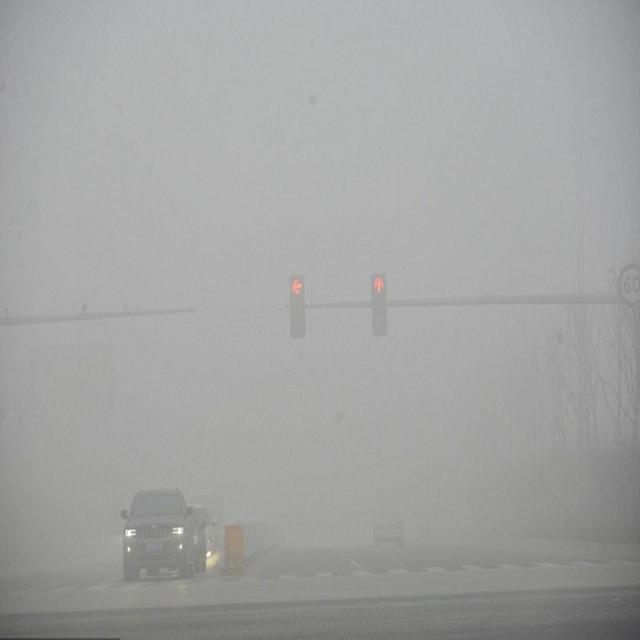Car: (119, 477, 198, 582), (198, 505, 221, 582)
